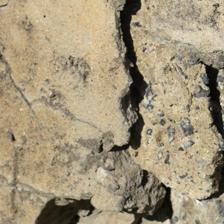Crack: (0, 0, 136, 78), (37, 76, 116, 148)
